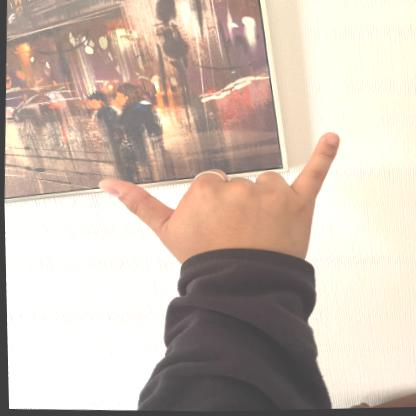Y: (84, 116, 351, 280)
